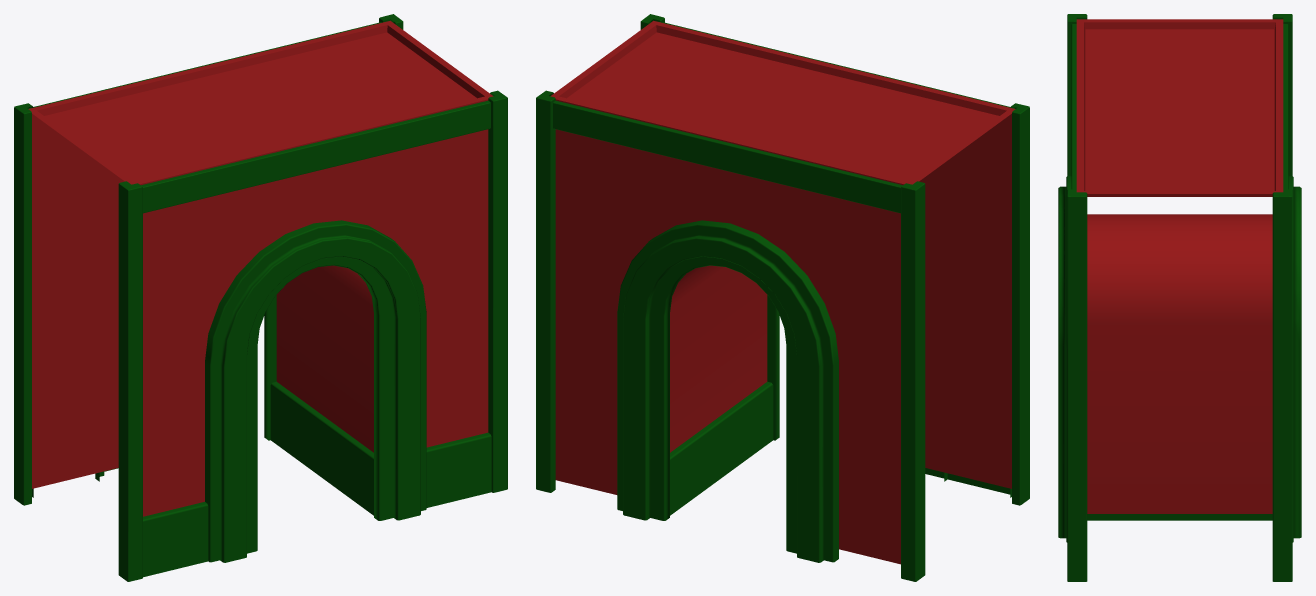
File: DoorWall_4x2x4_Concrete_02.FBX
3 views of the same model, side by side, from view 1: azimuth 30°, elevation 25°; view 2: azimuth 150°, elevation 25°; view 3: azimuth 270°, elevation 25° (orthographic).
Visible parts, largest first — view 1: DoorWall_4x2x4_Concrete_02; view 2: DoorWall_4x2x4_Concrete_02; view 3: DoorWall_4x2x4_Concrete_02.
Boxes of the visible parts, x1=… form: DoorWall_4x2x4_Concrete_02: x1=14, y1=14, x2=507, y2=581; DoorWall_4x2x4_Concrete_02: x1=536, y1=14, x2=1029, y2=581; DoorWall_4x2x4_Concrete_02: x1=1058, y1=14, x2=1301, y2=581.
Size of the model in its own units: 418 by 412 by 235.
